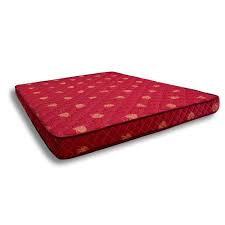bed-matress: (15, 71, 220, 160)
